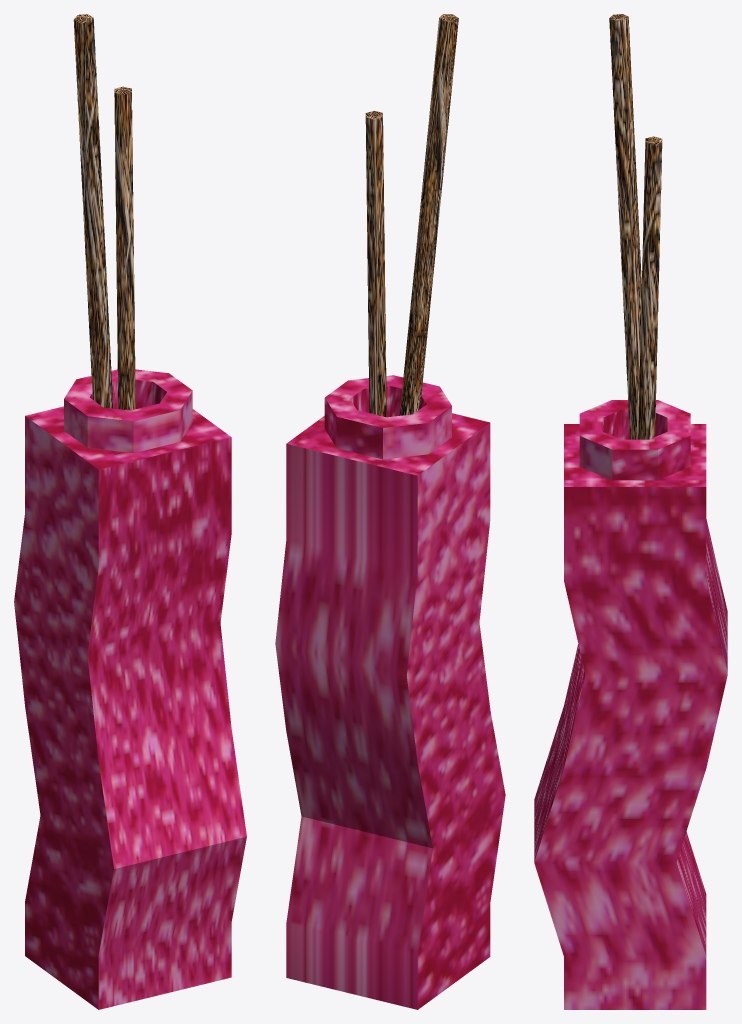
Rendered from weegle pot4.FBX.
3 views of the same model, side by side, from view 1: azimuth 30°, elevation 25°; view 2: azimuth 150°, elevation 25°; view 3: azimuth 270°, elevation 25° (orthographic). The views are drawn at different scales.
Parts seen in each view (by area): view 1: Box001, Cylinder003, Cylinder002; view 2: Box001, Cylinder003, Cylinder002; view 3: Box001, Cylinder003, Cylinder002.
Part boxes in pixels (<box>): Box001: <box>14,369,246,1009</box>; Cylinder003: <box>73,14,113,408</box>; Cylinder002: <box>114,86,135,410</box>; Box001: <box>275,375,505,1009</box>; Cylinder003: <box>399,14,458,415</box>; Cylinder002: <box>365,110,386,417</box>; Box001: <box>534,400,727,1009</box>; Cylinder003: <box>609,14,641,439</box>; Cylinder002: <box>638,136,662,439</box>.
Bounding box in the file's own units: 226 × 1571 × 294.
Materials: 2 (2 with a texture image).
